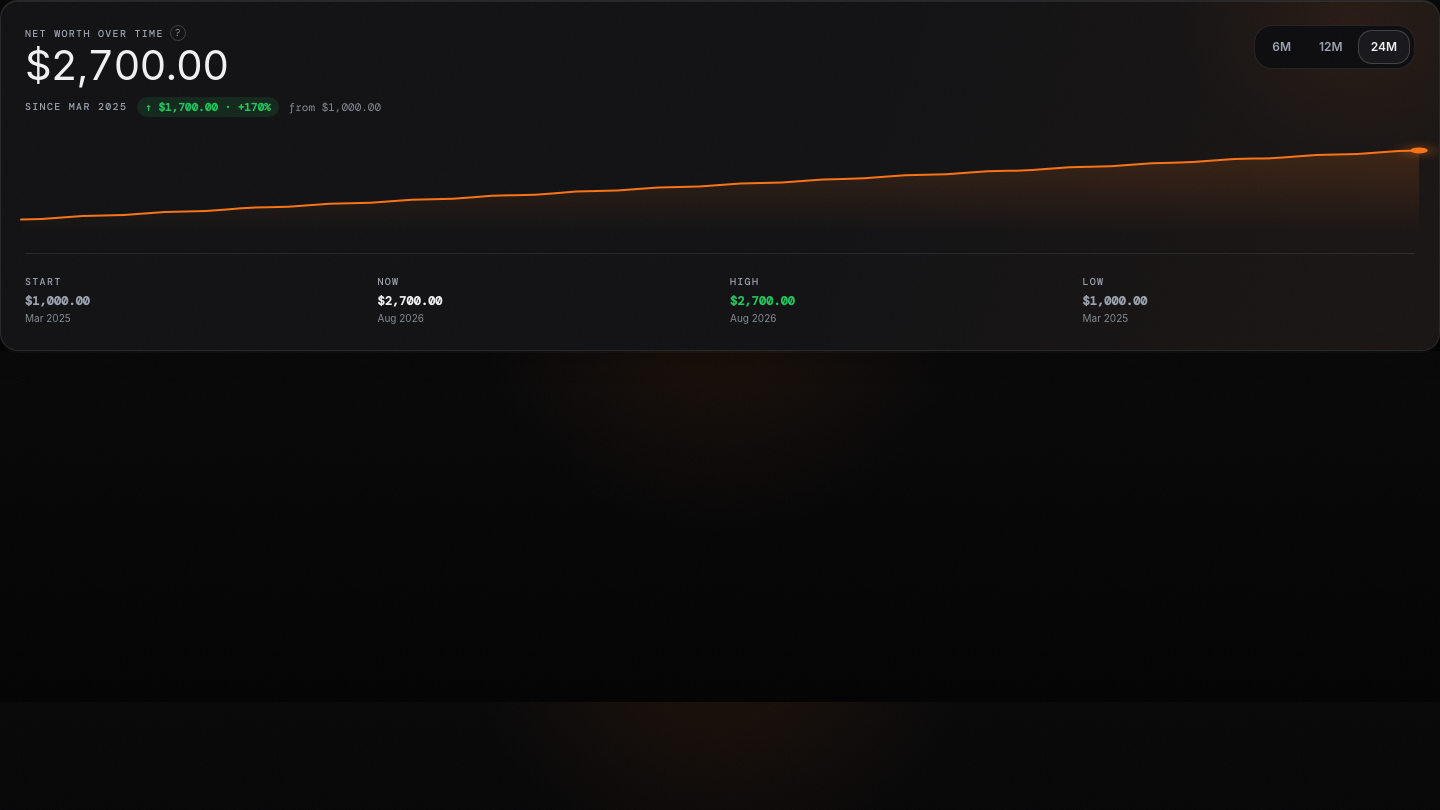
Scenario: range controls › changes the window when another range is chosen
Expected: the text "Since Mar 2025" is shown, [25,99,127,114]
Click the button "6M": (1282, 47) [1259,30,1304,64]
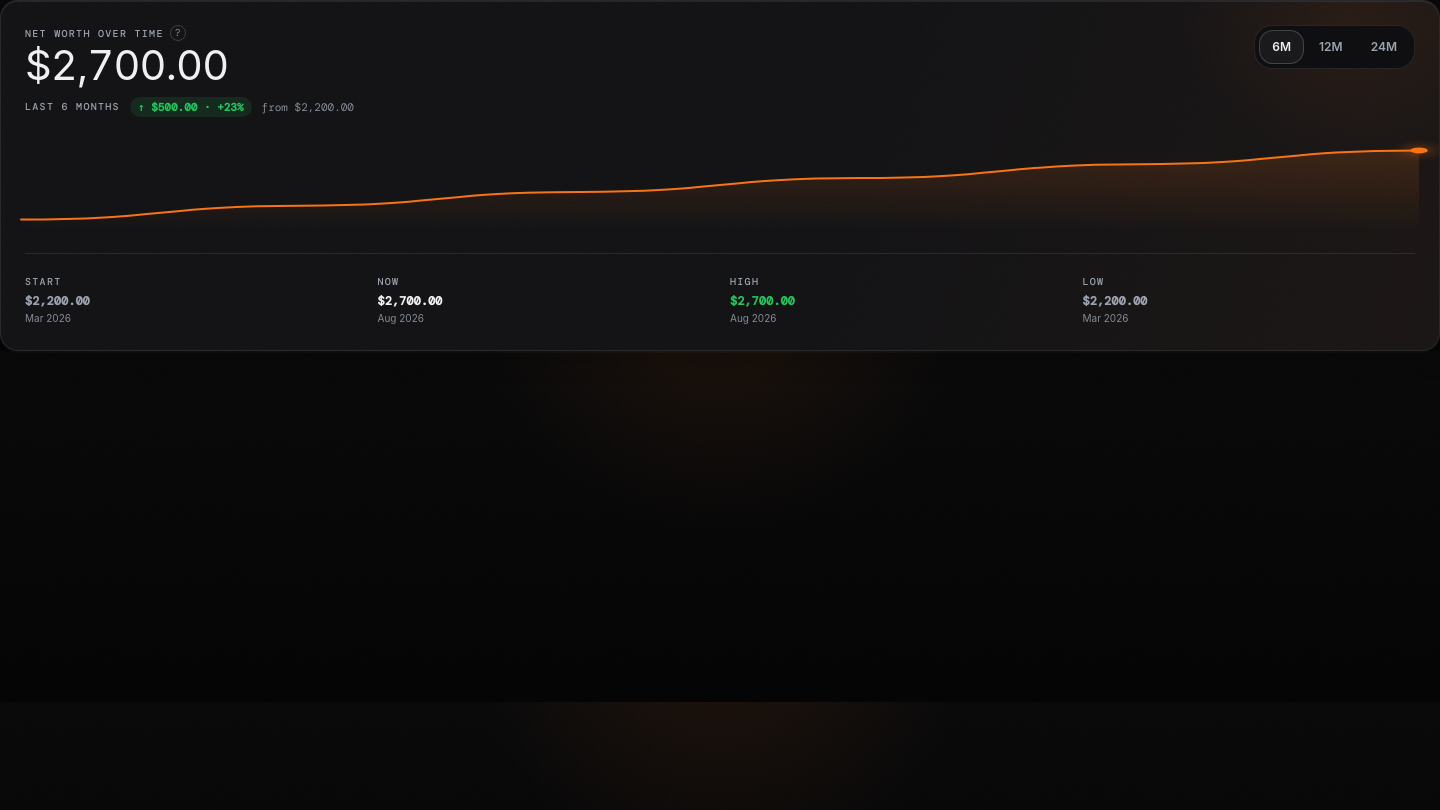
Now the text "Last 6 months" is shown, box [25,99,120,114]
